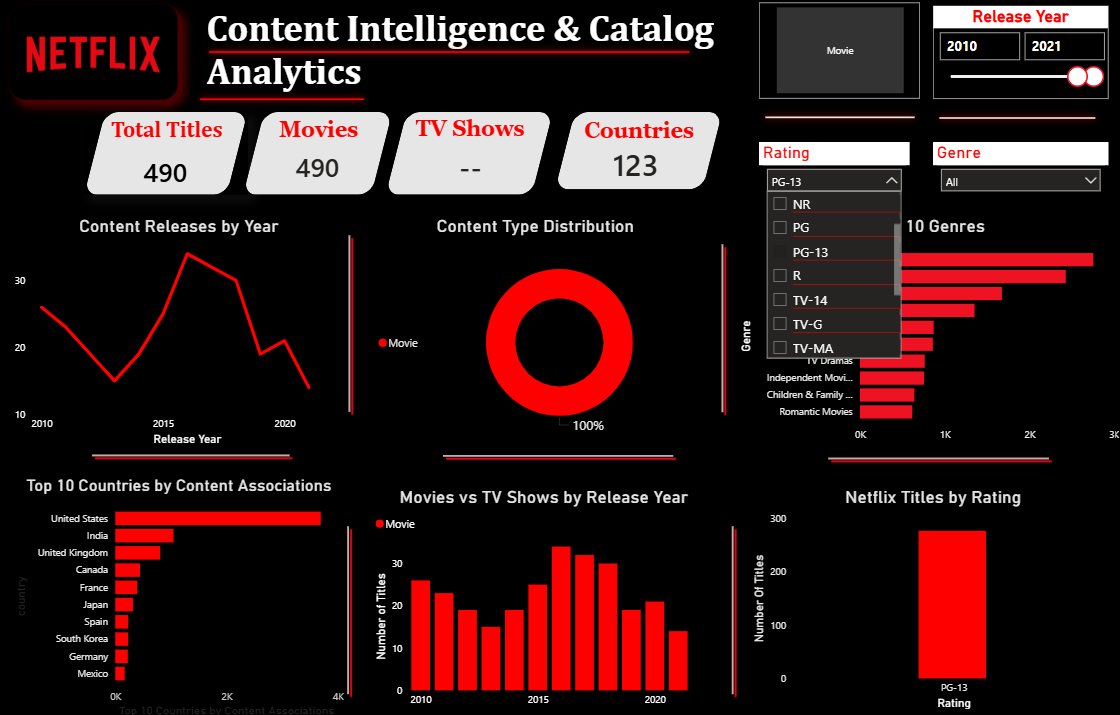

The page's visual inventory and layout, read from the dashboard file:
{"tool":"powerbi","page":{"name":"Page 2","canvas":[1400,900],"ordinal":1},"visuals":[{"type":"donutChart","title":"Content Type Distribution","fields":{"Category":[" Netflix.type"],"Y":["CountNonNull( Netflix.show_id)"]},"box":[464,272,400,288],"z":0},{"type":"lineChart","title":"Content Releases by Year ","fields":{"Category":[" Netflix.release_year"],"Y":["CountNonNull( Netflix.show_id)"]},"box":[16,272,416,288],"z":1000},{"type":"clusteredBarChart","title":"Top 10 Countries by Content Associations","fields":{"Y":["CountNonNull(Country.country)"],"Category":["Country.country"]},"box":[16,592,416,304],"z":2000},{"type":"clusteredColumnChart","title":"Netflix Titles by Rating","fields":{"Category":[" Netflix.rating"],"Y":["CountNonNull( Netflix.show_id)"]},"box":[928.1,607,456.1,278.9],"z":3000},{"type":"columnChart","title":"Movies vs TV Shows by Release Year","fields":{"Category":[" Netflix.release_year"],"Y":["CountNonNull( Netflix.show_id)"],"Series":[" Netflix.type"]},"box":[461.4,607,428.1,280.7],"z":4000},{"type":"clusteredBarChart","title":"Top 10 Genres","fields":{"Category":["Genre.Genre"],"Y":["CountNonNull(Genre.Genre)"]},"box":[912,272,480,288],"z":5000},{"type":"image","box":[17.1,12.9,205.7,115.7],"z":6000},{"type":"textbox","title":"Content Intelligence & Catalog Analytics","box":[253.7,13,661.1,113],"z":7000},{"type":"shape","box":[106.7,144.4,202.2,102.2],"z":8000},{"type":"cardVisual","fields":{"Data":[" Netflix.Total Titles"]},"box":[153.3,195.6,108.9,40],"z":9000},{"type":"shape","box":[304.4,144.4,184.4,102.2],"z":10000},{"type":"shape","box":[480,144.4,206.7,102.2],"z":11000},{"type":"shape","box":[688.9,144.4,206.7,95.6],"z":12000},{"type":"cardVisual","fields":{"Data":[" Netflix.Movies"]},"box":[331.1,186.7,128.9,48.9],"z":13000},{"type":"cardVisual","fields":{"Data":[" Netflix.TV Shows"]},"box":[526.7,188.9,117.8,44.4],"z":14000},{"type":"cardVisual","fields":{"Data":[" Netflix.Total Country"]},"box":[730,185,118.3,45],"z":15000},{"type":"slicer","title":"Release Year","fields":{"Values":[" Netflix.release_year"]},"box":[1155.4,13.8,216.9,115.4],"z":16000},{"type":"slicer","title":"Rating","fields":{"Values":[" Netflix.rating"]},"box":[940,181.5,186.2,73.8],"z":17000},{"type":"slicer","title":"Genre","fields":{"Values":["Genre.Genre"]},"box":[1155.4,181.5,216.9,64.6],"z":18000},{"type":"shape","box":[253.7,55.6,609.3,29.6],"z":19000},{"type":"shape","box":[940,135,200,31.7],"z":20000},{"type":"shape","box":[1155,135,208.3,33.3],"z":21000},{"type":"shape","box":[242.6,113,218.5,31.5],"z":22000},{"type":"shape","box":[112,544,256,48],"z":23000},{"type":"shape","box":[415.8,291.2,36.8,229.8],"z":24000},{"type":"shape","box":[884.2,301.8,24.6,219.3],"z":25000},{"type":"shape","box":[421.1,650.9,26.3,219.3],"z":26000},{"type":"shape","box":[889.5,650.9,38.6,219.3],"z":27000},{"type":"shape","box":[543.9,542.1,296.5,52.6],"z":28000},{"type":"shape","box":[1021.1,556.1,284.2,33.3],"z":29000},{"type":"slicer","fields":{"Values":[" Netflix.type"]},"box":[940,10,198.3,118.3],"z":30000}]}

Visuals, with their boxes in screenshot pixels (x1, y1, x2, y2), scaled from the page's 1400x900 canvas onto the 1120x715 screenshot:
"Content Type Distribution" donutChart: bbox(371, 216, 691, 445)
"Content Releases by Year " lineChart: bbox(13, 216, 346, 445)
"Top 10 Countries by Content Associations" clusteredBarChart: bbox(13, 470, 346, 712)
"Netflix Titles by Rating" clusteredColumnChart: bbox(742, 482, 1107, 704)
"Movies vs TV Shows by Release Year" columnChart: bbox(369, 482, 712, 705)
"Top 10 Genres" clusteredBarChart: bbox(730, 216, 1114, 445)
image: bbox(14, 10, 178, 102)
"Content Intelligence & Catalog Analytics" textbox: bbox(203, 10, 732, 100)
shape: bbox(85, 115, 247, 196)
cardVisual -  Netflix.Total Titles: bbox(123, 155, 210, 187)
shape: bbox(244, 115, 391, 196)
shape: bbox(384, 115, 549, 196)
shape: bbox(551, 115, 716, 191)
cardVisual -  Netflix.Movies: bbox(265, 148, 368, 187)
cardVisual -  Netflix.TV Shows: bbox(421, 150, 516, 185)
cardVisual -  Netflix.Total Country: bbox(584, 147, 679, 183)
"Release Year" slicer: bbox(924, 11, 1098, 103)
"Rating" slicer: bbox(752, 144, 901, 203)
"Genre" slicer: bbox(924, 144, 1098, 196)
shape: bbox(203, 44, 690, 68)
shape: bbox(752, 107, 912, 132)
shape: bbox(924, 107, 1091, 134)
shape: bbox(194, 90, 369, 115)
shape: bbox(90, 432, 294, 470)
shape: bbox(333, 231, 362, 414)
shape: bbox(707, 240, 727, 414)
shape: bbox(337, 517, 358, 691)
shape: bbox(712, 517, 742, 691)
shape: bbox(435, 431, 672, 472)
shape: bbox(817, 442, 1044, 468)
slicer -  Netflix.type: bbox(752, 8, 911, 102)
